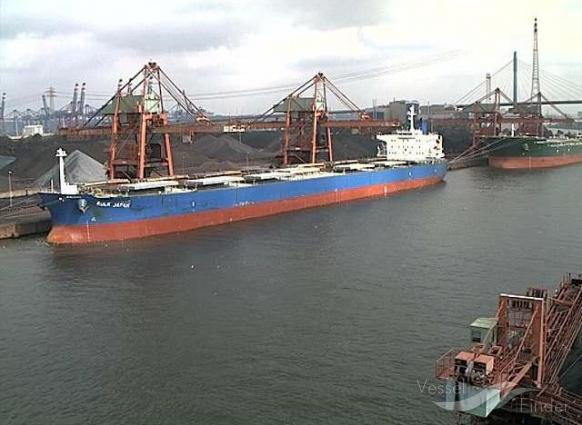OCR: (94, 198, 138, 208)
